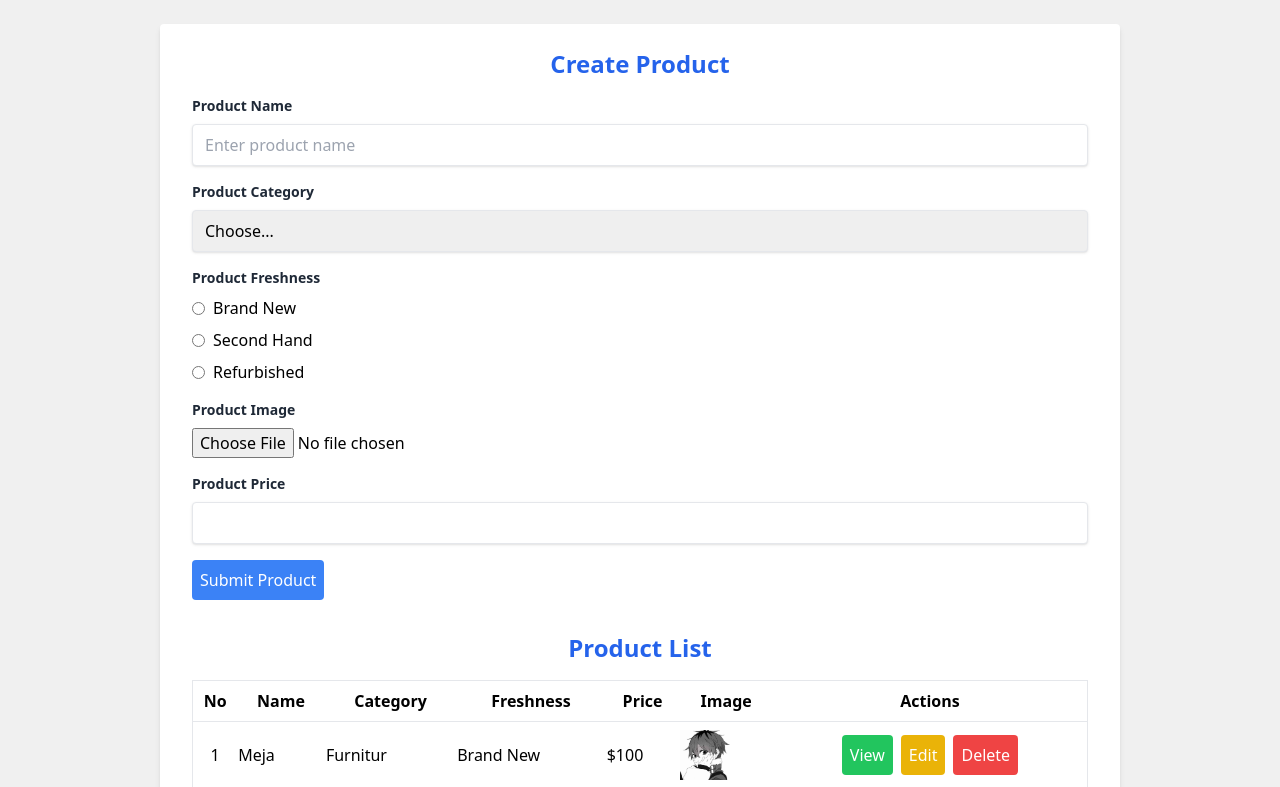
Test: Validasi Form CreateProduct › Validasi bahwa Product Name tidak boleh melebihi 25 karakter
Type "NamaProdukYangSangatPanjangSekali" into the field with placeholder "Enter product name".
click(640, 145); type("NamaProdukYangSangatPanjangSekali")  # box [192,124,1088,166]
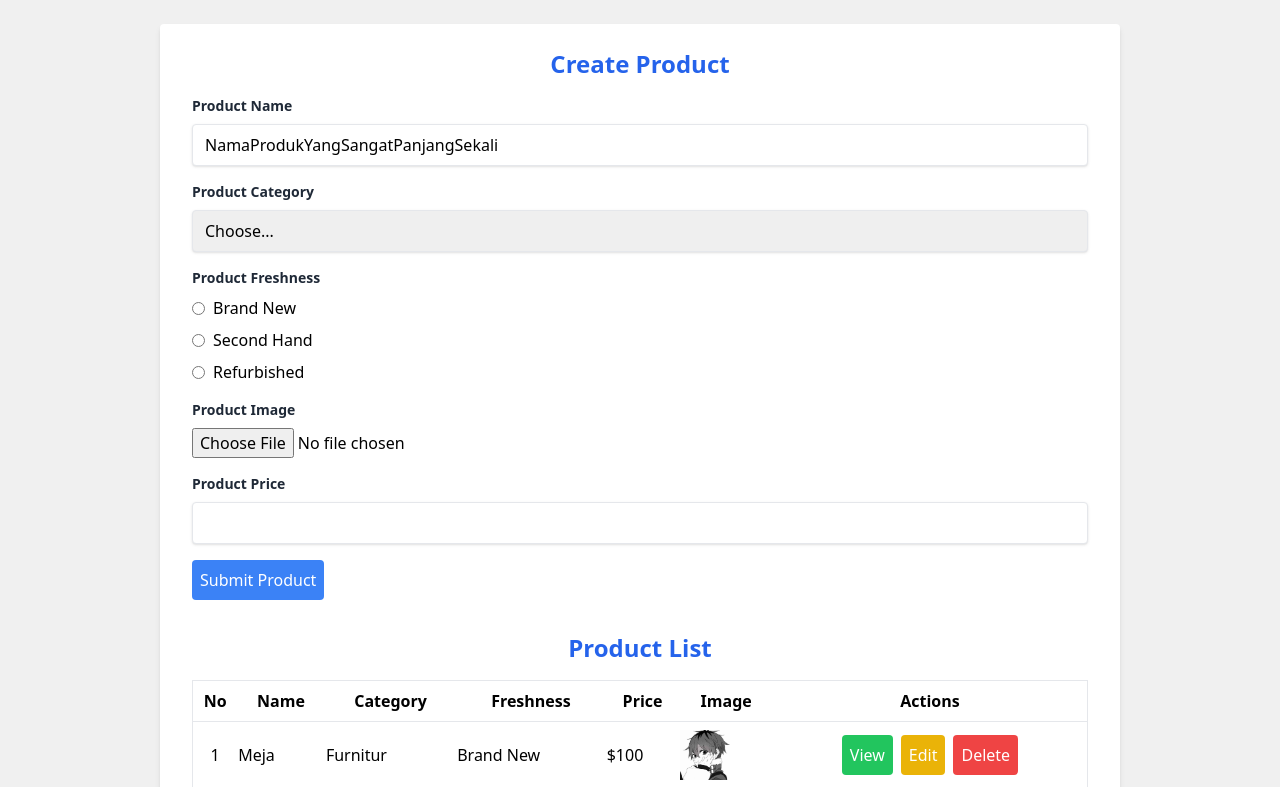
Click the button "Submit Product".
click(258, 580)  # box [192,560,324,600]
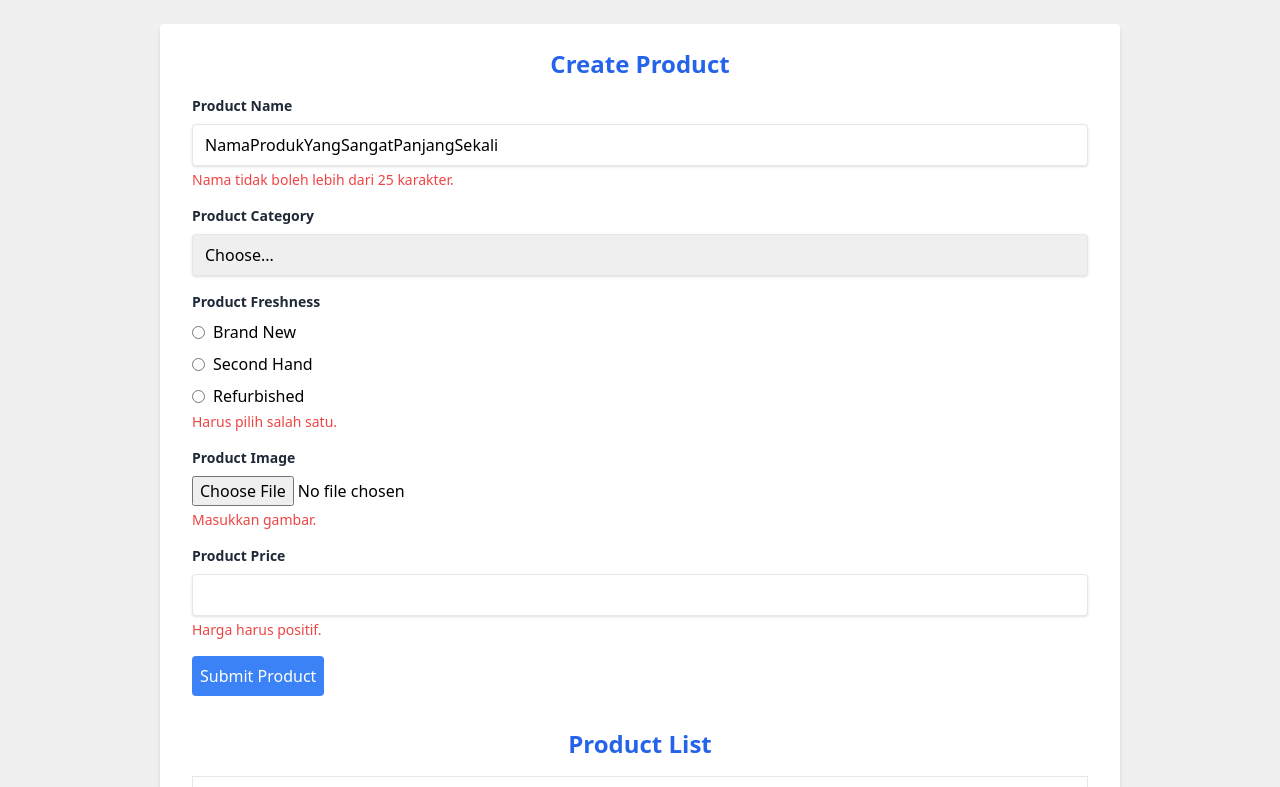
expect the text "Nama tidak boleh lebih dari 25 karakter." is shown: met, box [192,170,454,189]
